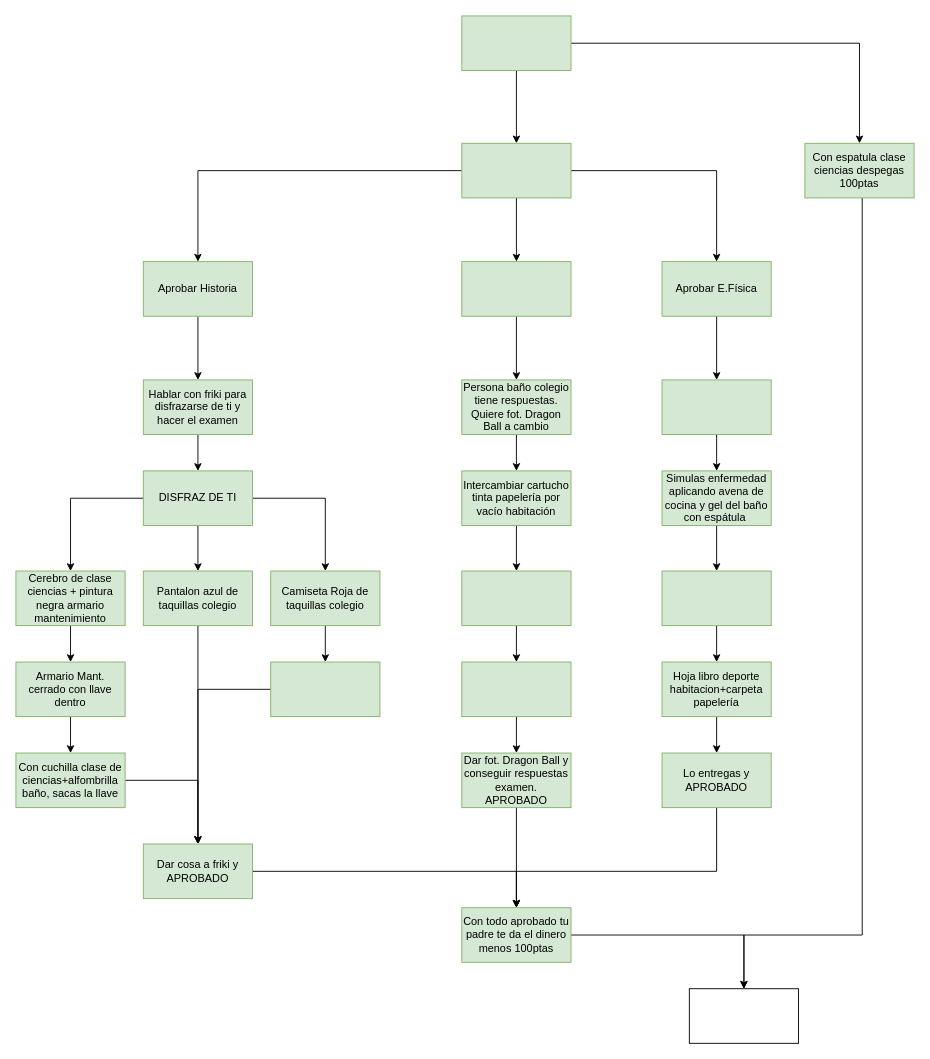
Image size: 930x1059. Some labels were removed from this diagram. Here are the shapes that lost their labels. From the top down, the centre of each, then its label:
At [516,43]: "Necesitas dinero para ir al concierto".
At [516,170]: "Hablar con padre y te da dinero si apruebas 3 asignaturas".
At [516,288]: "Aprobar Matemáticas".
At [716,407]: "Hablas con profesor para librarte por trabajo si tienes enfermedad".
At [516,598]: "Poner fot. Dragon Ball en bandeja Impresora papelería".
At [716,598]: "Tienes que hacer trabajo sobre el deporte".
At [325,689]: "Reloj estrella de cocina + cartucho tinta papelería".
At [516,689]: "Pedir horarios colegio".
At [743,1015]: "FIN JUEGO".
